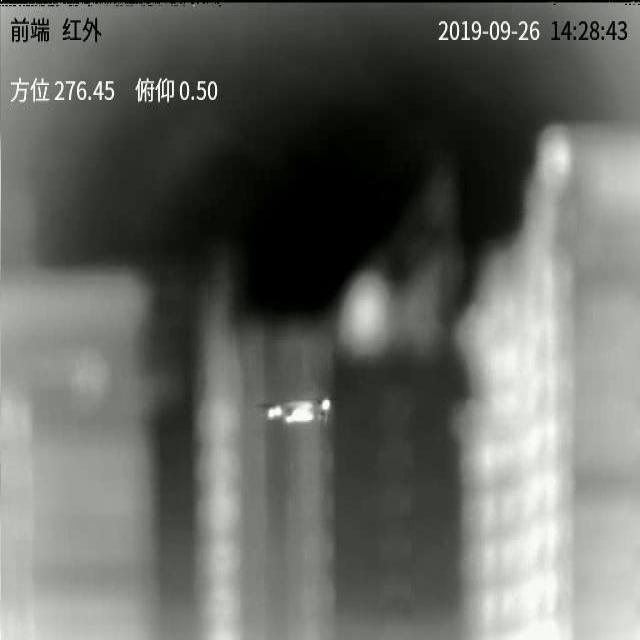drone: (253, 399, 331, 425)
